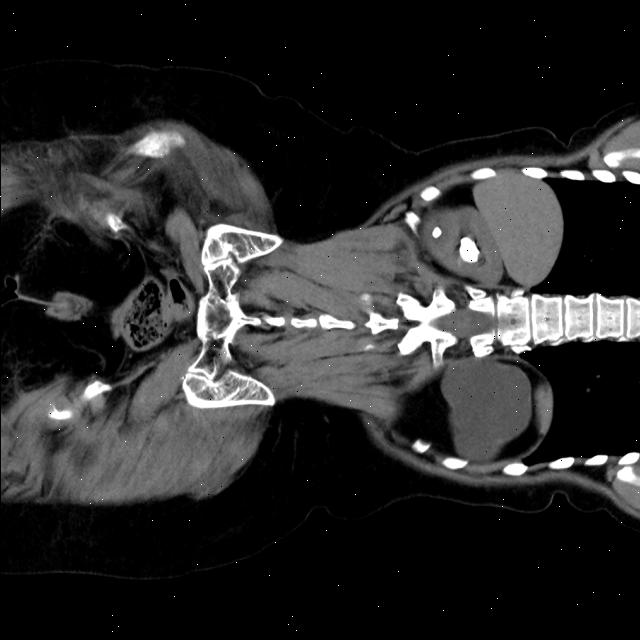kidneystone: (458, 237, 479, 263), (432, 227, 441, 239)
